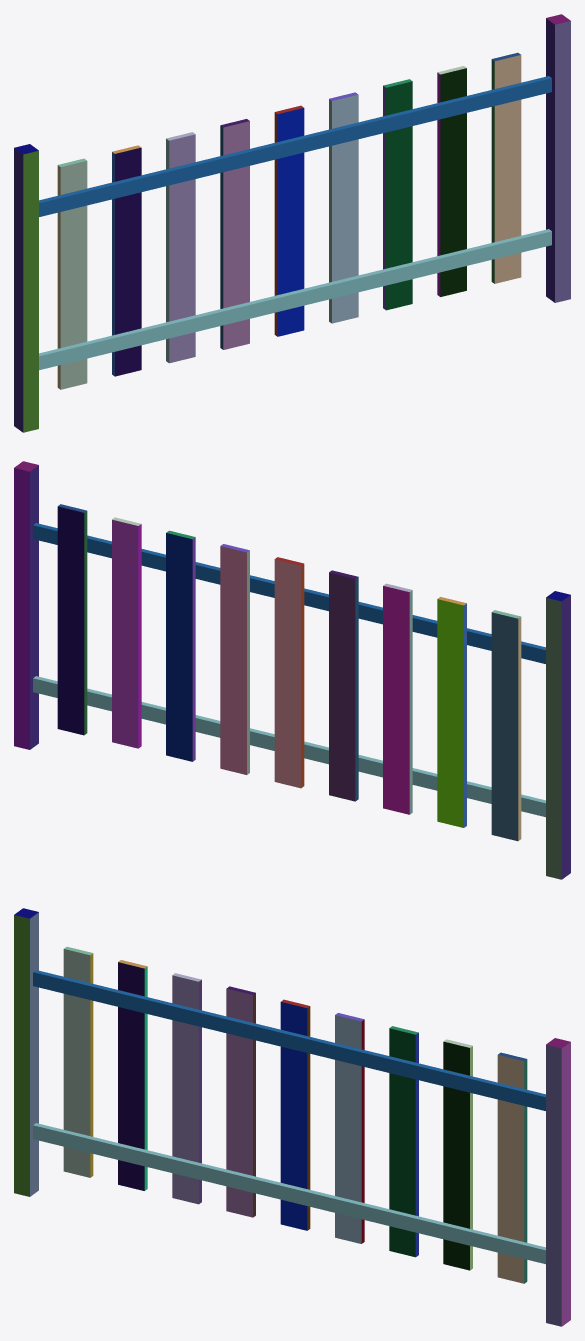
Rendered from generic_fence03.fbx.
3 renders of one model, top to bottom at view 1: azimuth 30°, elevation 25°; view 2: azimuth 150°, elevation 25°; view 3: azimuth 330°, elevation 25°, orthographic.
Parts seen in each view (by area): view 1: Fence; view 2: Fence; view 3: Fence.
Boxes of the visible parts, x1=… form: Fence: x1=14, y1=14, x2=570, y2=432; Fence: x1=14, y1=461, x2=570, y2=879; Fence: x1=14, y1=908, x2=570, y2=1326.
Size of the model in its own units: 206 by 6 by 100.
